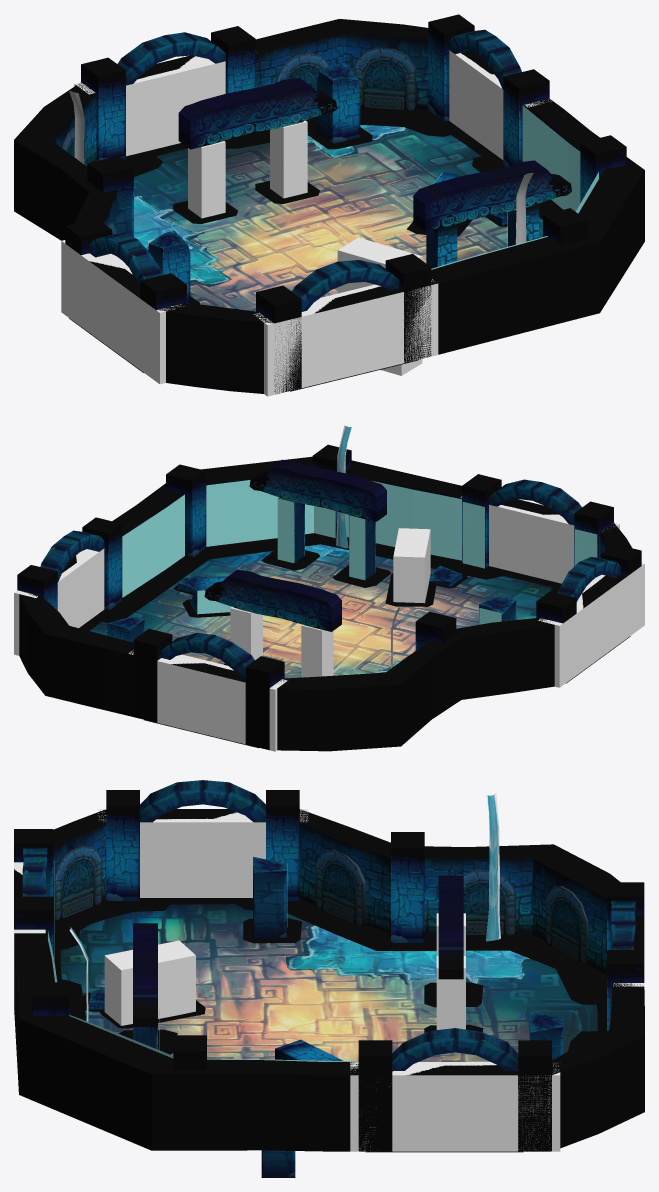
Rendered from Dungeon_051_Room_003.fbx.
The picture shows the model from 3 angles, top to bottom: view 1: azimuth 30°, elevation 25°; view 2: azimuth 150°, elevation 25°; view 3: azimuth 270°, elevation 25°; orthographic projection. The views are drawn at different scales.
Parts seen in each view (by area): view 1: Dun_051_Room_003_Wall, Dun_051_Room_003, DoorWay_NavMask (1) (×4), Dun_051_Room_003_Ground, Dun_051_Door_002_Arch (×4), Dun_051_Obj03_Gate, Cube (×2), Dun_051_shadow, Dun_051_Room_003_GroundWater_01_Terikaeshi, Dun_051_Obj01_Pillar, Cube (2), Dun_051_Door_002 (×2) (+4 smaller); view 2: Dun_051_Room_003_Wall, Dun_051_Room_003, DoorWay_NavMask (1) (×4), Dun_051_Room_003_GroundWater_01_Terikaeshi, Dun_051_Room_003_Ground, Dun_051_Door_002_Arch (×4), Dun_051_shadow, Dun_051_Obj03_Gate, Cube (×2), Dun_051_Door_002 (×2), Cube (2), Dun_051_Water01_Tak_A1 (+4 smaller); view 3: Dun_051_Room_003_Wall, Dun_051_Room_003, Dun_051_Room_003_Ground, DoorWay_NavMask (1) (×2), Dun_051_shadow, Dun_051_Door_002_Arch (×4), Cube, Dun_051_Obj03_Gate, Dun_051_Door_002 (×2), Dun_051_Water01_Tak_A1, Cube (2), Dun_051_Obj01_Pillar (+4 smaller).
Boxes of the visible parts, <box> form: Dun_051_Room_003_Wall: <box>14,19,644,393</box>; Dun_051_Room_003: <box>62,14,626,393</box>; DoorWay_NavMask (1) (×4): <box>61,50,551,396</box>; Dun_051_Room_003_Ground: <box>69,128,542,391</box>; Dun_051_Door_002_Arch (×4): <box>89,29,521,311</box>; Dun_051_Obj03_Gate: <box>178,77,337,149</box>; Cube (×2): <box>188,141,422,375</box>; Dun_051_shadow: <box>121,107,562,304</box>; Dun_051_Room_003_GroundWater_01_Terikaeshi: <box>148,105,598,269</box>; Dun_051_Obj01_Pillar: <box>317,62,360,143</box>; Cube (2): <box>270,120,307,198</box>; Dun_051_Door_002 (×2): <box>81,253,403,388</box>; Dun_051_Room_003_Wall: <box>19,456,631,751</box>; Dun_051_Room_003: <box>17,444,641,749</box>; DoorWay_NavMask (1) (×4): <box>14,496,644,751</box>; Dun_051_Room_003_GroundWater_01_Terikaeshi: <box>122,480,597,624</box>; Dun_051_Room_003_Ground: <box>90,550,630,748</box>; Dun_051_Door_002_Arch (×4): <box>40,479,620,678</box>; Dun_051_shadow: <box>102,533,558,622</box>; Dun_051_Obj03_Gate: <box>204,570,341,631</box>; Cube (×2): <box>301,528,430,677</box>; Dun_051_Door_002 (×2): <box>157,574,627,744</box>; Cube (2): <box>230,607,262,659</box>; Dun_051_Water01_Tak_A1: <box>336,425,399,668</box>; Dun_051_Room_003_Wall: <box>14,809,644,1151</box>; Dun_051_Room_003: <box>14,790,644,1177</box>; Dun_051_Room_003_Ground: <box>60,904,597,1152</box>; DoorWay_NavMask (1) (×2): <box>98,809,560,1151</box>; Dun_051_shadow: <box>53,898,606,1054</box>; Dun_051_Door_002_Arch (×4): <box>22,780,635,1071</box>; Cube: <box>104,940,195,1025</box>; Dun_051_Obj03_Gate: <box>438,875,463,979</box>; Dun_051_Door_002 (×2): <box>157,809,518,1152</box>; Dun_051_Water01_Tak_A1: <box>70,793,500,1021</box>; Cube (2): <box>436,956,465,1029</box>; Dun_051_Obj01_Pillar: <box>529,1012,563,1060</box>.
Size of what is drawn, in the model's own units: 15 by 5.32 by 15.02.
